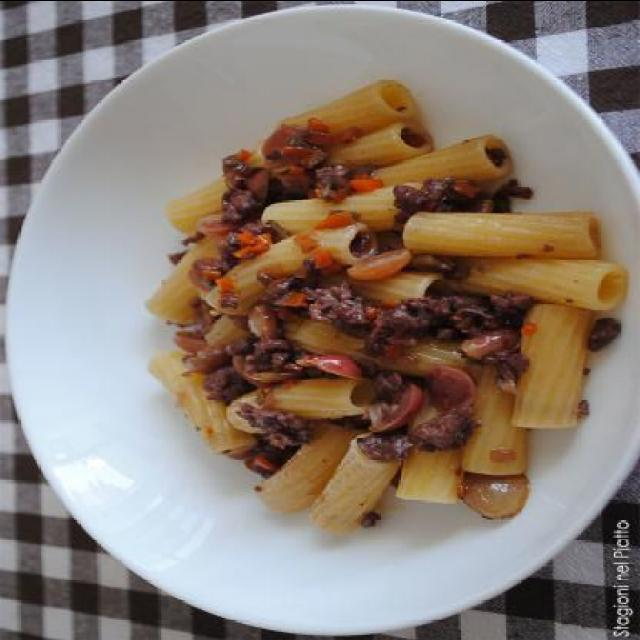Pasta al ragu: (107, 67, 601, 521)
